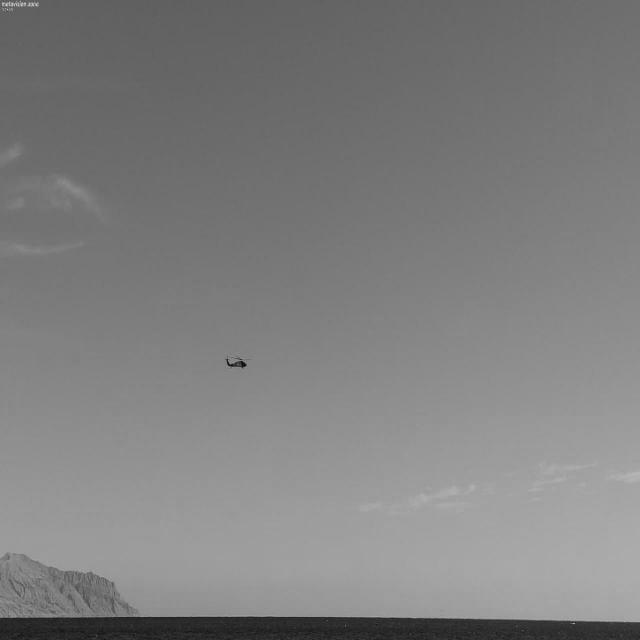helikopter: (214, 340, 269, 388)
